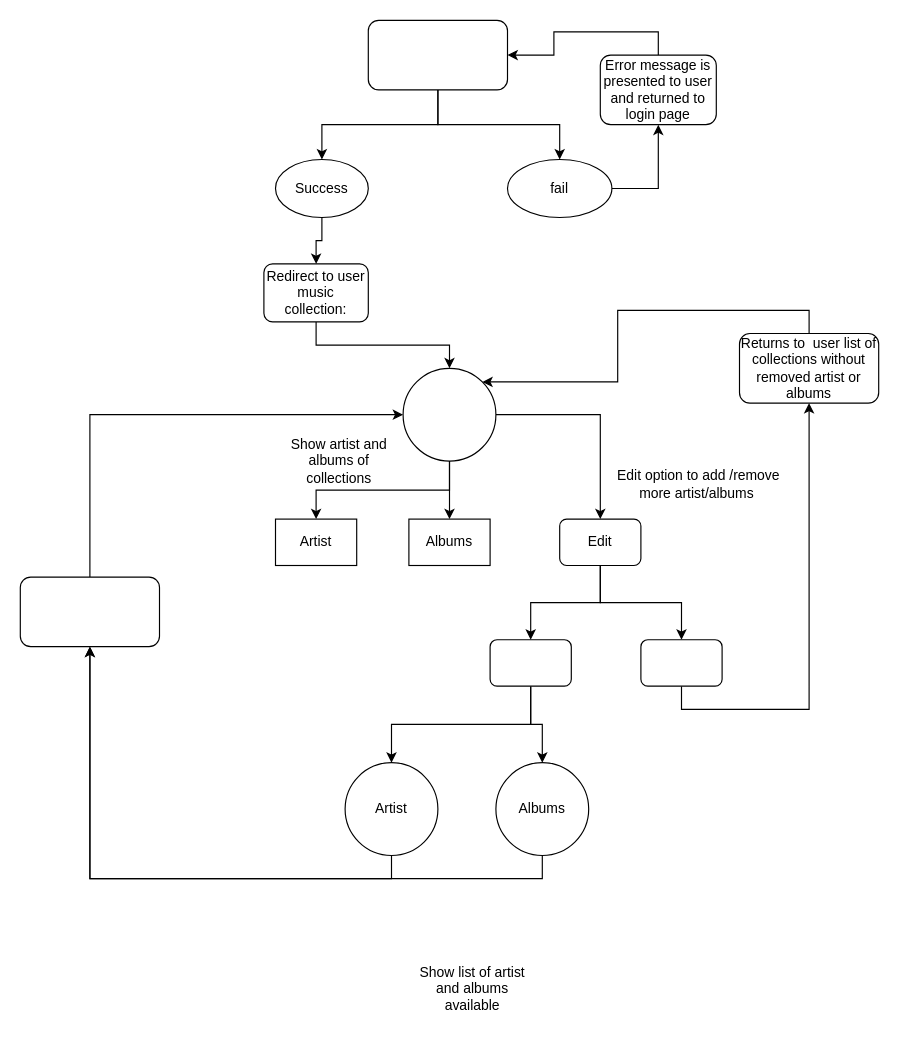
This 899x1038 diagram has some shape labels left out. Here are the shapes that lost their labels. From the top down, the box of each, then its label:
(367, 19, 507, 90): User login
(402, 367, 496, 461): List of collections
(19, 576, 160, 647): Returns to user list of collections with new added artist or albums
(489, 639, 571, 686): Add
(640, 639, 722, 686): Remove
